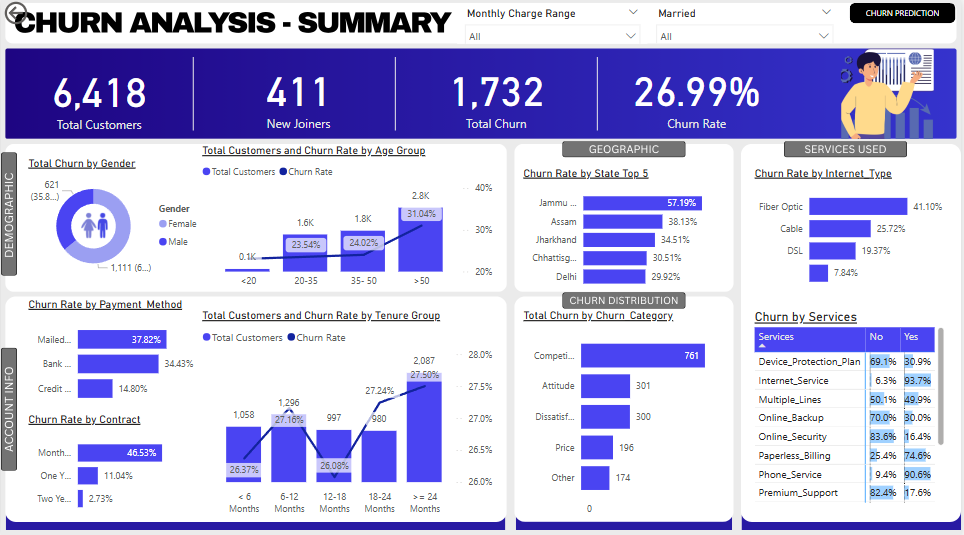

What the dashboard file says about the page in this screenshot:
{"tool":"powerbi","page":{"name":"Summary","canvas":[1280,720],"ordinal":0},"visuals":[{"type":"image","box":[94.7,281.3,58.7,44.7],"z":0},{"type":"card","fields":{"Values":["tbl_Measures.Total Customers"]},"box":[32,76,199,108],"z":1000},{"type":"actionButton","box":[0,0,100,40],"z":2000},{"type":"card","fields":{"Values":["tbl_Measures.New Joiners"]},"box":[316,74,160,110],"z":3000},{"type":"card","fields":{"Values":["tbl_Measures.Total Churn"]},"box":[566,79,188,100],"z":4000},{"type":"card","fields":{"Values":["tbl_Measures.Churn Rate"]},"box":[826,74,202,112],"z":5000},{"type":"donutChart","fields":{"Category":["db_churn prod_churn.Gender"],"Y":["tbl_Measures.Total Churn"]},"box":[32,211.3,244.7,168.7],"z":6000},{"type":"lineStackedColumnComboChart","fields":{"Category":["mapping_AgeGrp.Age Group"],"Y":["tbl_Measures.Total Customers"],"Y2":["tbl_Measures.Churn Rate"]},"box":[262.9,195.7,397.1,200],"z":7000},{"type":"clusteredBarChart","fields":{"Category":["db_churn prod_churn.Payment_Method"],"Y":["tbl_Measures.Churn Rate"]},"box":[31.4,400,231.4,152.9],"z":8000},{"type":"clusteredBarChart","fields":{"Category":["db_churn prod_churn.Contract"],"Y":["tbl_Measures.Churn Rate"]},"box":[31.4,552.9,231.4,144.3],"z":9000},{"type":"lineStackedColumnComboChart","fields":{"Category":["mapping_TenureGrp.Tenure Group"],"Y":["tbl_Measures.Total Customers"],"Y2":["tbl_Measures.Churn Rate"]},"box":[262.9,415.7,397.1,281.4],"z":10000},{"type":"clusteredBarChart","title":"Churn Rate by State Top 5 ","fields":{"Category":["mapping_TenureGrp.State"],"Y":["tbl_Measures.Churn Rate"]},"box":[691.4,224.3,287.1,171.4],"z":11000},{"type":"clusteredBarChart","fields":{"Category":["mapping_TenureGrp.Churn_Category"],"Y":["tbl_Measures.Total Churn"]},"box":[691.4,415.7,277.1,304.3],"z":12000},{"type":"clusteredBarChart","fields":{"Category":["mapping_TenureGrp.Internet_Type"],"Y":["tbl_Measures.Churn Rate"]},"box":[1000,224.3,262.9,171.4],"z":13000},{"type":"pivotTable","title":"Churn by Services","fields":{"Rows":["prod_Services.Services"],"Columns":["prod_Services.Status"],"Values":["Sum(prod_Services.Churn Status)"]},"box":[1000,415.7,262.9,262.9],"z":14000},{"type":"slicer","fields":{"Values":["prod_Services.Monthly Charge Status"]},"box":[608.8,6.2,253.8,54.4],"z":15000},{"type":"slicer","fields":{"Values":["prod_Services.Married"]},"box":[862.5,6.9,256.2,53.8],"z":16000},{"type":"shape","box":[1131.5,6.9,140.8,26.9],"z":16001}]}

Visuals, with their boxes in screenshot pixels (x1, y1, x2, y2), scaled from the page's 1280x720 canvas onto the 964x535 screenshot:
image: 71,209,116,242
card - tbl_Measures.Total Customers: 24,56,174,137
actionButton: 0,0,75,30
card - tbl_Measures.New Joiners: 238,55,358,137
card - tbl_Measures.Total Churn: 426,59,568,133
card - tbl_Measures.Churn Rate: 622,55,774,138
donutChart - db_churn prod_churn.Gender x tbl_Measures.Total Churn: 24,157,208,282
lineStackedColumnComboChart - mapping_AgeGrp.Age Group x tbl_Measures.Total Customers: 198,145,497,294
clusteredBarChart - db_churn prod_churn.Payment_Method x tbl_Measures.Churn Rate: 24,297,198,411
clusteredBarChart - db_churn prod_churn.Contract x tbl_Measures.Churn Rate: 24,411,198,518
lineStackedColumnComboChart - mapping_TenureGrp.Tenure Group x tbl_Measures.Total Customers: 198,309,497,518
"Churn Rate by State Top 5 " clusteredBarChart: 521,167,737,294
clusteredBarChart - mapping_TenureGrp.Churn_Category x tbl_Measures.Total Churn: 521,309,729,534
clusteredBarChart - mapping_TenureGrp.Internet_Type x tbl_Measures.Churn Rate: 753,167,951,294
"Churn by Services" pivotTable: 753,309,951,504
slicer - prod_Services.Monthly Charge Status: 459,5,650,45
slicer - prod_Services.Married: 650,5,843,45
shape: 852,5,958,25
